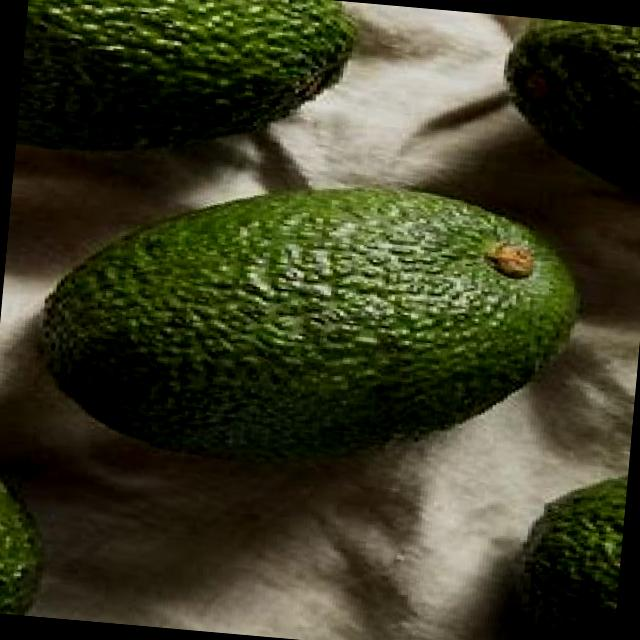avocado: (24, 160, 589, 492)
